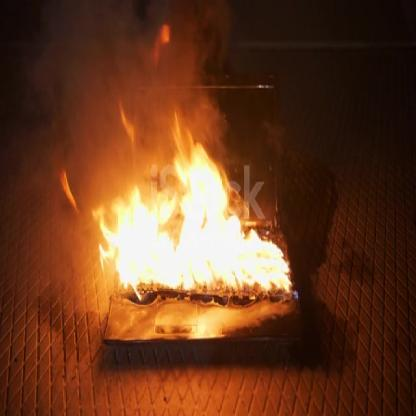fire: (97, 132, 288, 305)
smoke: (8, 0, 246, 264)
